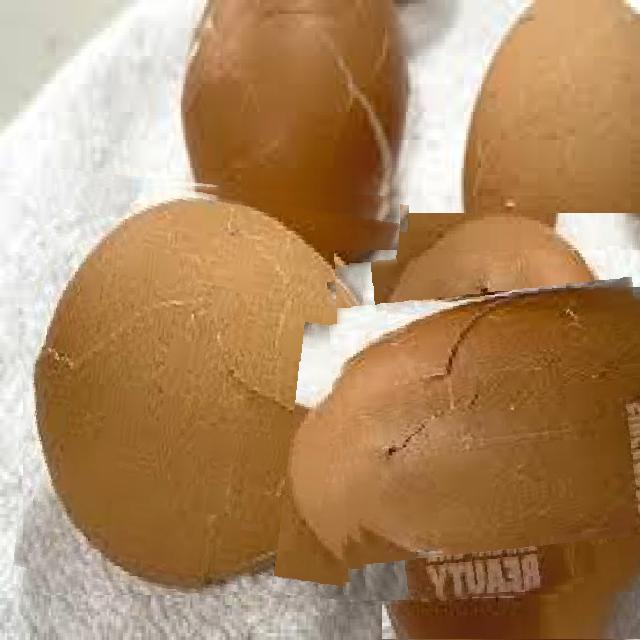biodegradable: (23, 177, 400, 595), (334, 250, 640, 602)
